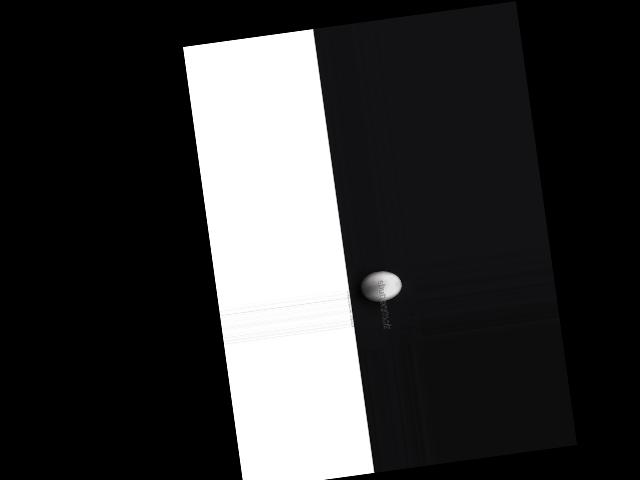egg: (359, 268, 404, 303)
